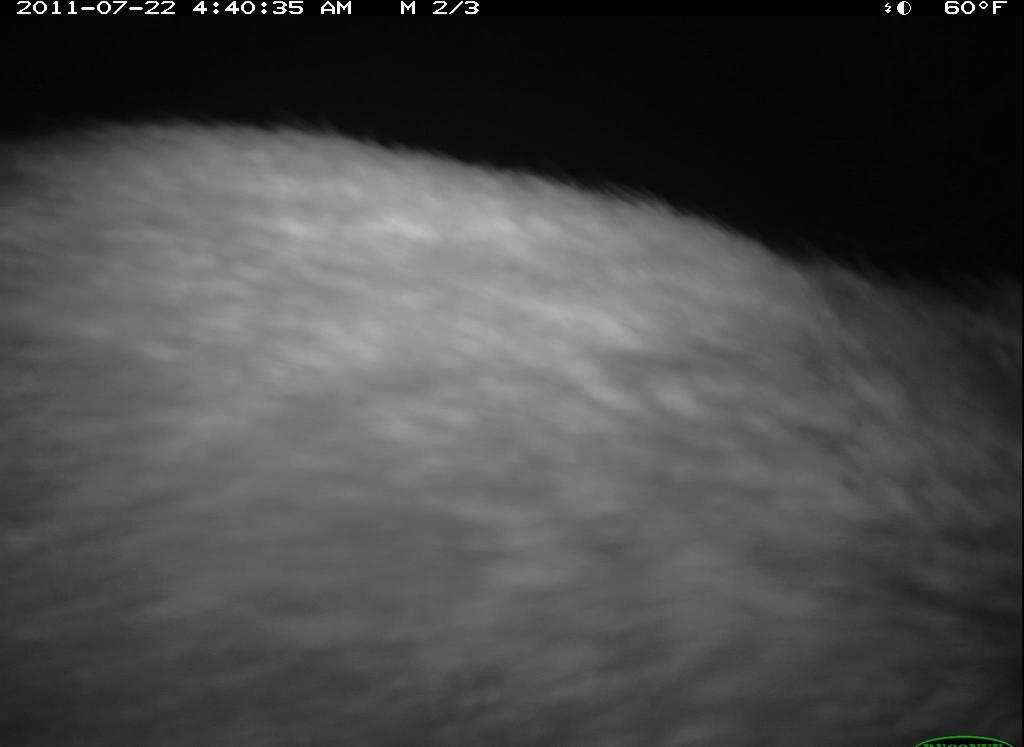raccoon: (4, 112, 1021, 742)
